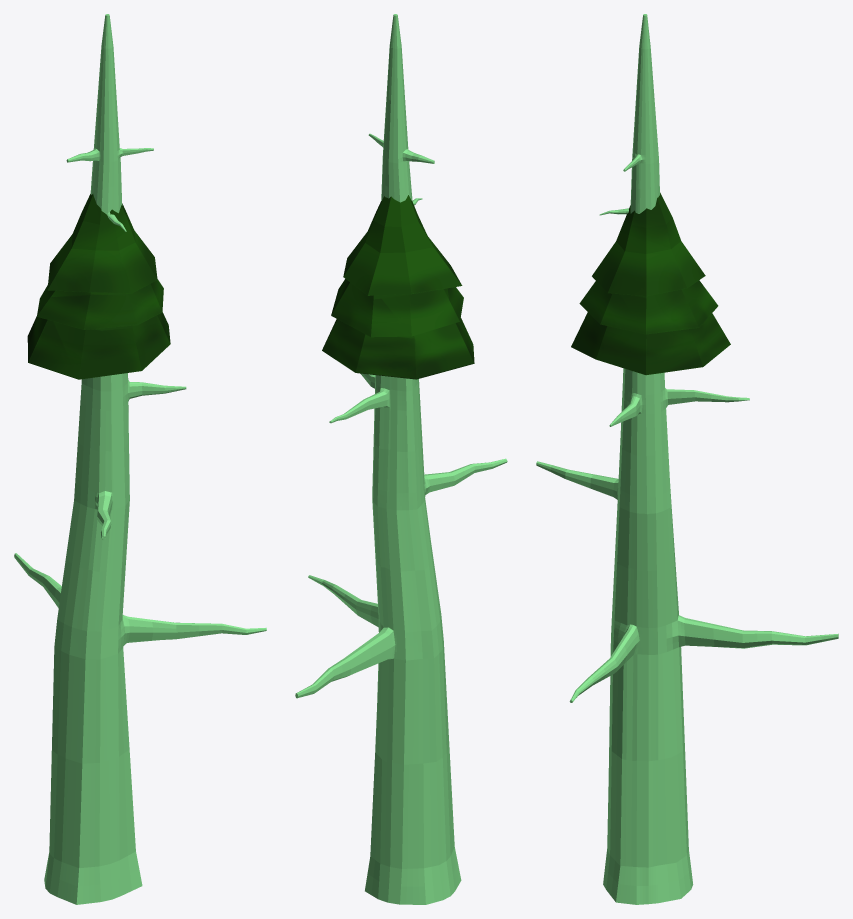
File: arbolshoort.fbx
3 views of the same model, side by side, from view 1: azimuth 30°, elevation 25°; view 2: azimuth 150°, elevation 25°; view 3: azimuth 270°, elevation 25° (orthographic).
Visible parts, largest first — view 1: Cube, Cube.002; view 2: Cube, Cube.002; view 3: Cube, Cube.002.
Part boxes in pixels (bbox=[...]): Cube: bbox=[14, 14, 266, 904]; Cube.002: bbox=[27, 194, 170, 379]; Cube: bbox=[295, 14, 507, 904]; Cube.002: bbox=[322, 195, 474, 379]; Cube: bbox=[536, 14, 838, 904]; Cube.002: bbox=[571, 192, 730, 375].
Size of the model in its own units: 433 by 1773 by 554.
